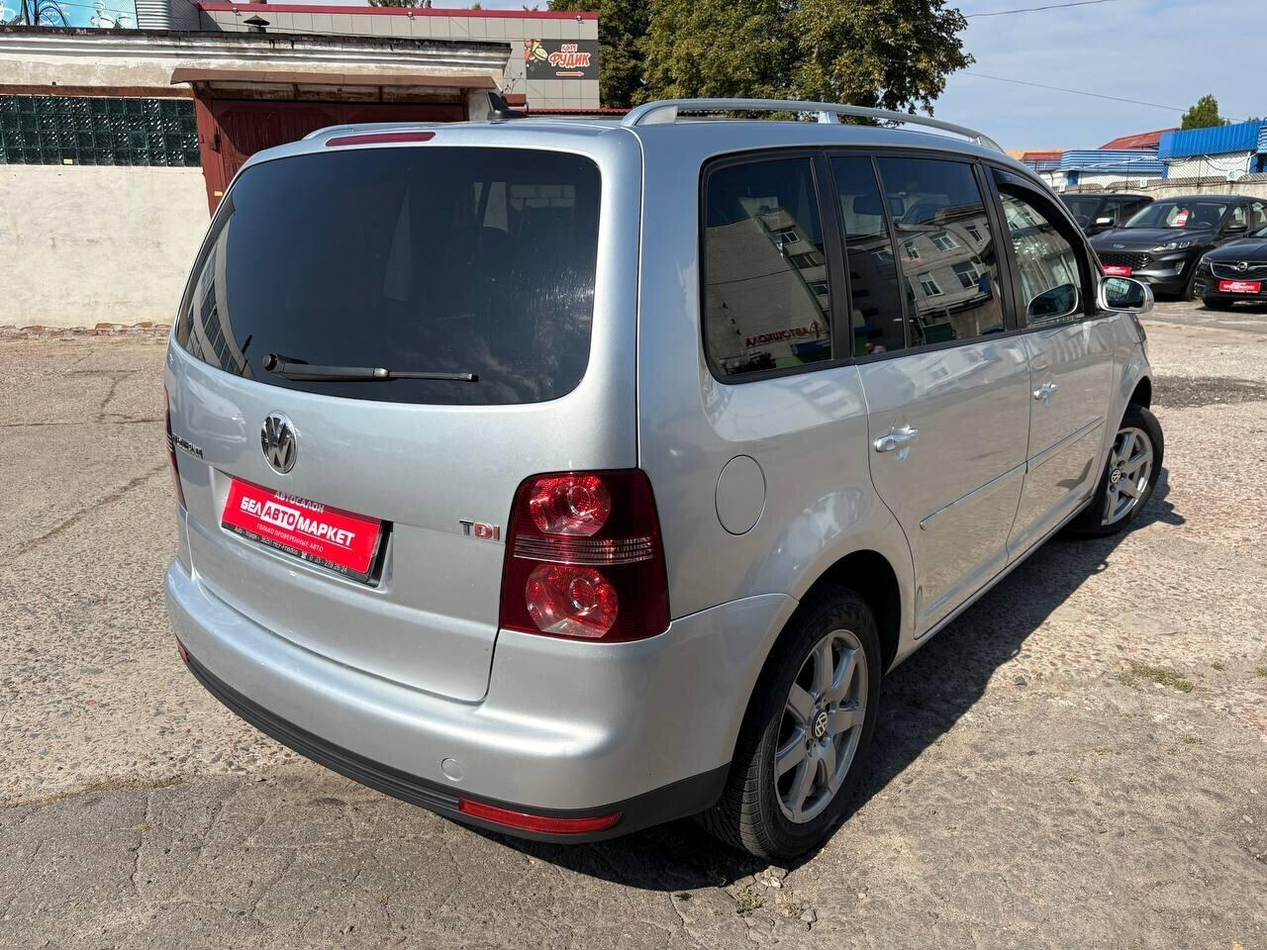Touran_2006-2010: (157, 113, 1164, 868)
